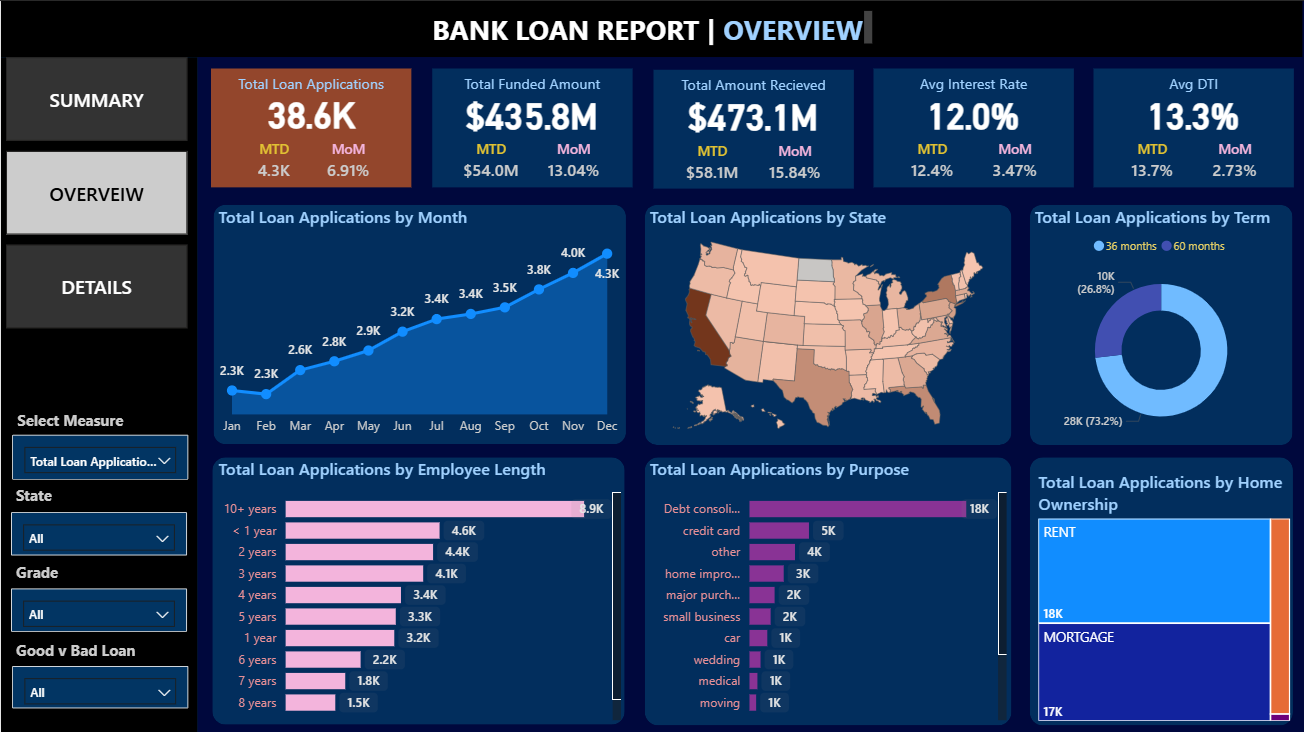

The dashboard page shown, as its layout file describes it:
{"tool":"powerbi","page":{"name":"OVERVEIW","canvas":[1280,720],"ordinal":1},"visuals":[{"type":"shape","box":[856.5,65.7,196.7,116.7],"z":0,"group":"g4"},{"type":"shape","box":[1072.9,65.7,196.7,116.7],"z":0,"group":"g5"},{"type":"shape","box":[205.6,66.7,196.7,116.7],"z":0,"group":"g1"},{"type":"shape","box":[422.9,66.7,196.7,116.7],"z":0,"group":"g2"},{"type":"shape","box":[640.2,67.1,196.7,116.7],"z":0,"group":"g3"},{"type":"shape","box":[208,200,405,235],"z":0},{"type":"shape","box":[0,0,1277.5,55],"z":1000},{"type":"card","fields":{"Values":["bank_loan_data.Avg Interest Rate"]},"box":[873,82.7,163.3,53.3],"z":1000,"group":"g4"},{"type":"card","fields":{"Values":["bank_loan_data.Avg DTI"]},"box":[1089.4,82.7,163.3,53.3],"z":1000,"group":"g5"},{"type":"card","fields":{"Values":["bank_loan_data.Total Loan Applications"]},"box":[238.9,82.9,131.2,53.8],"z":1000,"group":"g1"},{"type":"card","fields":{"Values":["bank_loan_data.Total Funded Amount"]},"box":[439.4,83.7,163.3,53.3],"z":1000,"group":"g2"},{"type":"card","fields":{"Values":["bank_loan_data.Total Amount Recieved"]},"box":[656.7,84.1,163.3,53.3],"z":1000,"group":"g3"},{"type":"shape","box":[0,55,193,665],"z":2000},{"type":"textbox","box":[856.5,65.7,196.7,31.7],"z":2000,"group":"g4"},{"type":"textbox","box":[1072.9,65.7,196.7,31.7],"z":2000,"group":"g5"},{"type":"textbox","box":[205.6,66.7,196.7,31.7],"z":2000,"group":"g1"},{"type":"textbox","box":[422.9,66.7,196.7,31.7],"z":2000,"group":"g2"},{"type":"textbox","box":[640.2,67.1,196.7,31.7],"z":2000,"group":"g3"},{"type":"textbox","box":[418.3,5,441.7,43.3],"z":3000},{"type":"card","title":"MTD","fields":{"Values":["bank_loan_data.MTD Avg Interest Rate"]},"box":[880.8,136.1,66.7,46.7],"z":3000,"group":"g4"},{"type":"card","title":"MTD","fields":{"Values":["bank_loan_data.MTD Avg DTI"]},"box":[1097.2,136.1,66.7,46.7],"z":3000,"group":"g5"},{"type":"card","title":"MTD","fields":{"Values":["bank_loan_data.MTD Loan Applications"]},"box":[238.9,136.7,57.5,46.2],"z":3000,"group":"g1"},{"type":"card","title":"MTD","fields":{"Values":["bank_loan_data.MTD Funded Amount"]},"box":[447.2,137.1,66.7,46.7],"z":3000,"group":"g2"},{"type":"card","title":"MTD","fields":{"Values":["bank_loan_data.MTD Total Amount Recieved"]},"box":[664.5,137.5,66.7,46.7],"z":3000,"group":"g3"},{"type":"group","id":"g1","title":"Group 1","box":[205.6,66.7,196.7,116.7],"z":4000},{"type":"card","title":"MoM","fields":{"Values":["bank_loan_data.MoM Avg Int Rate"]},"box":[961.9,136.1,66.7,46.7],"z":4000,"group":"g4"},{"type":"card","title":"MoM","fields":{"Values":["bank_loan_data.MoM Avg DTI"]},"box":[1178.3,136.1,66.7,46.7],"z":4000,"group":"g5"},{"type":"card","title":"MoM","fields":{"Values":["bank_loan_data.MoM Loan Applications"]},"box":[311.4,136.7,58.8,46.2],"z":4000,"group":"g1"},{"type":"card","title":"MoM","fields":{"Values":["bank_loan_data.MoM Funded Amount"]},"box":[528.3,137.1,66.7,46.7],"z":4000,"group":"g2"},{"type":"card","title":"MoM","fields":{"Values":["bank_loan_data.MoM Total Amount Recieved"]},"box":[745.6,137.5,66.7,46.7],"z":4000,"group":"g3"},{"type":"group","id":"g2","title":"Group 1","box":[422.9,66.7,196.7,117],"z":5000},{"type":"group","id":"g3","title":"Group 1","box":[640.2,67.1,195.7,117.1],"z":6000},{"type":"group","id":"g4","title":"Group 1","box":[856.5,65.7,195.7,117.1],"z":7000},{"type":"group","id":"g5","title":"Group 1","box":[1072.9,65.7,195.7,117.1],"z":8000},{"type":"slicer","fields":{"Values":["bank_loan_data.address_state"]},"box":[10,501.9,172.5,42.5],"z":9000},{"type":"textbox","box":[10,469.4,96.2,40],"z":10000},{"type":"slicer","fields":{"Values":["bank_loan_data.grade"]},"box":[10,576.1,172.5,42.5],"z":11000},{"type":"textbox","box":[10,546.1,96.2,40],"z":12000},{"type":"slicer","fields":{"Values":["bank_loan_data.Good v Bad Loan"]},"box":[11.4,652.9,172.9,41.4],"z":13000},{"type":"textbox","box":[10,621.7,148.3,40],"z":14000},{"type":"areaChart","fields":{"Y":["bank_loan_data.Total Loan Applications"],"Category":["Date Table.Month"]},"box":[208.3,200,405,235],"z":15000},{"type":"slicer","fields":{"Values":["Select Measure.Select Measure"]},"box":[11.4,425.7,172.9,44.3],"z":16000},{"type":"textbox","box":[11.4,395.7,147.1,40],"z":17000},{"type":"shape","box":[631.4,200,360,235.7],"z":18000},{"type":"shapeMap","fields":{"Value":["bank_loan_data.Total Loan Applications"],"Category":["bank_loan_data.address_state"]},"box":[631.7,200,360,235],"z":19000},{"type":"shape","box":[1010,200,258,236],"z":20000},{"type":"donutChart","fields":{"Y":["bank_loan_data.Total Loan Applications"],"Category":["bank_loan_data.term"]},"box":[1010,200,258.3,236.7],"z":21000},{"type":"shape","box":[207.5,447.5,405,262.5],"z":22000},{"type":"barChart","fields":{"Y":["bank_loan_data.Total Loan Applications"],"Category":["bank_loan_data.emp_length"]},"box":[208.3,448.3,405,263.3],"z":23000},{"type":"shape","box":[631.7,448.3,360,263.3],"z":24000},{"type":"shape","box":[1010,448.3,258.3,263.3],"z":25000},{"type":"barChart","fields":{"Y":["bank_loan_data.Total Loan Applications"],"Category":["bank_loan_data.purpose"]},"box":[631.7,448.3,360,263.3],"z":26000},{"type":"treemap","fields":{"Group":["bank_loan_data.home_ownership"],"Values":["bank_loan_data.Total Loan Applications"]},"box":[1013.3,460,256.7,251.7],"z":26001},{"type":"pageNavigator","box":[5,55,178.3,268.3],"z":26002}]}

Visuals, with their boxes in screenshot pixels (x1, y1, x2, y2), scaled from the page's 1280x720 canvas onto the 1304x732 screenshot:
shape: 873:67:1073:185
shape: 1093:67:1293:185
shape: 209:68:410:186
shape: 431:68:631:186
shape: 652:68:853:187
shape: 212:203:624:442
shape: 0:0:1301:56
card - bank_loan_data.Avg Interest Rate: 889:84:1056:138
card - bank_loan_data.Avg DTI: 1110:84:1276:138
card - bank_loan_data.Total Loan Applications: 243:84:377:139
card - bank_loan_data.Total Funded Amount: 448:85:614:139
card - bank_loan_data.Total Amount Recieved: 669:86:835:140
shape: 0:56:197:731
textbox: 873:67:1073:99
textbox: 1093:67:1293:99
textbox: 209:68:410:100
textbox: 431:68:631:100
textbox: 652:68:853:100
textbox: 426:5:876:49
"MTD" card: 897:138:965:186
"MTD" card: 1118:138:1186:186
"MTD" card: 243:139:302:186
"MTD" card: 456:139:524:187
"MTD" card: 677:140:745:187
"Group 1" group: 209:68:410:186
"MoM" card: 980:138:1048:186
"MoM" card: 1200:138:1268:186
"MoM" card: 317:139:377:186
"MoM" card: 538:139:606:187
"MoM" card: 760:140:828:187
"Group 1" group: 431:68:631:187
"Group 1" group: 652:68:852:187
"Group 1" group: 873:67:1072:186
"Group 1" group: 1093:67:1292:186
slicer - bank_loan_data.address_state: 10:510:186:553
textbox: 10:477:108:518
slicer - bank_loan_data.grade: 10:586:186:629
textbox: 10:555:108:596
slicer - bank_loan_data.Good v Bad Loan: 12:664:188:706
textbox: 10:632:161:673
areaChart - bank_loan_data.Total Loan Applications x Date Table.Month: 212:203:625:442
slicer - Select Measure.Select Measure: 12:433:188:478
textbox: 12:402:161:443
shape: 643:203:1010:443
shapeMap - bank_loan_data.Total Loan Applications x bank_loan_data.address_state: 644:203:1010:442
shape: 1029:203:1292:443
donutChart - bank_loan_data.Total Loan Applications x bank_loan_data.term: 1029:203:1292:444
shape: 211:455:624:722
barChart - bank_loan_data.Total Loan Applications x bank_loan_data.emp_length: 212:456:625:723
shape: 644:456:1010:723
shape: 1029:456:1292:723
barChart - bank_loan_data.Total Loan Applications x bank_loan_data.purpose: 644:456:1010:723
treemap - bank_loan_data.home_ownership x bank_loan_data.Total Loan Applications: 1032:468:1294:724
pageNavigator: 5:56:187:329
